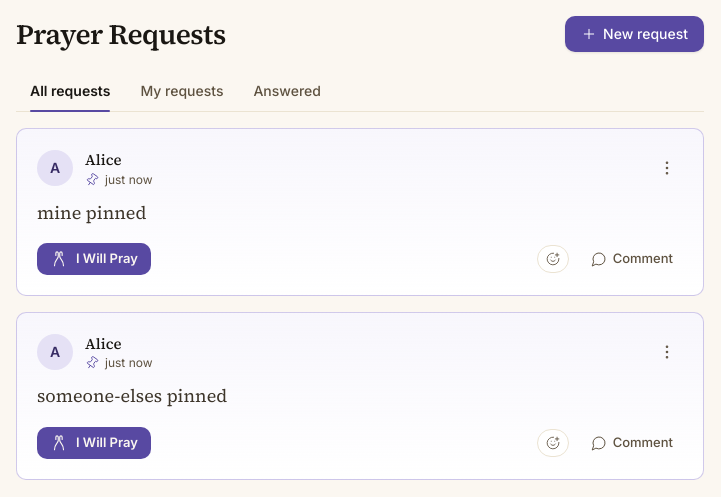
FeedPage › hides pinned posts not authored by me under the My Requests filter
Expected: the text "mine pinned" is shown, [37,200,146,224]
Expected: the text "someone-elses pinned" is shown, [37,383,227,408]
# Switch to 'mine' — only own pinned remains.
Click the tab "My requests". click: click(182, 91)
box: [126,71,238,111]
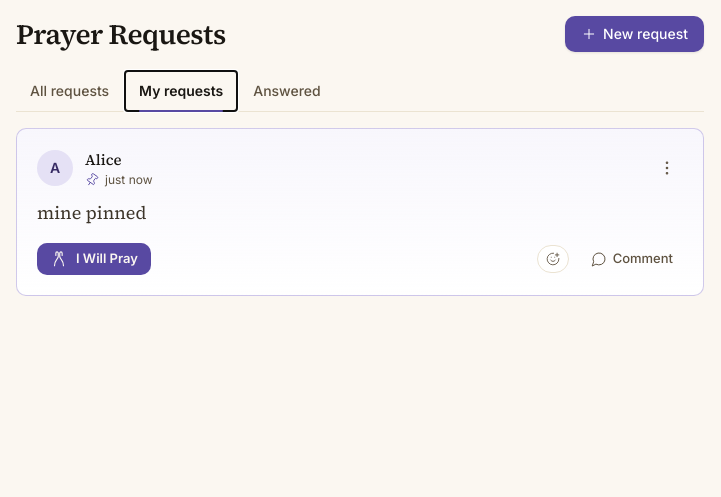
Expected: the text "mine pinned" is shown, [37,200,146,224]
Result: the text "someone-elses pinned" is gone
